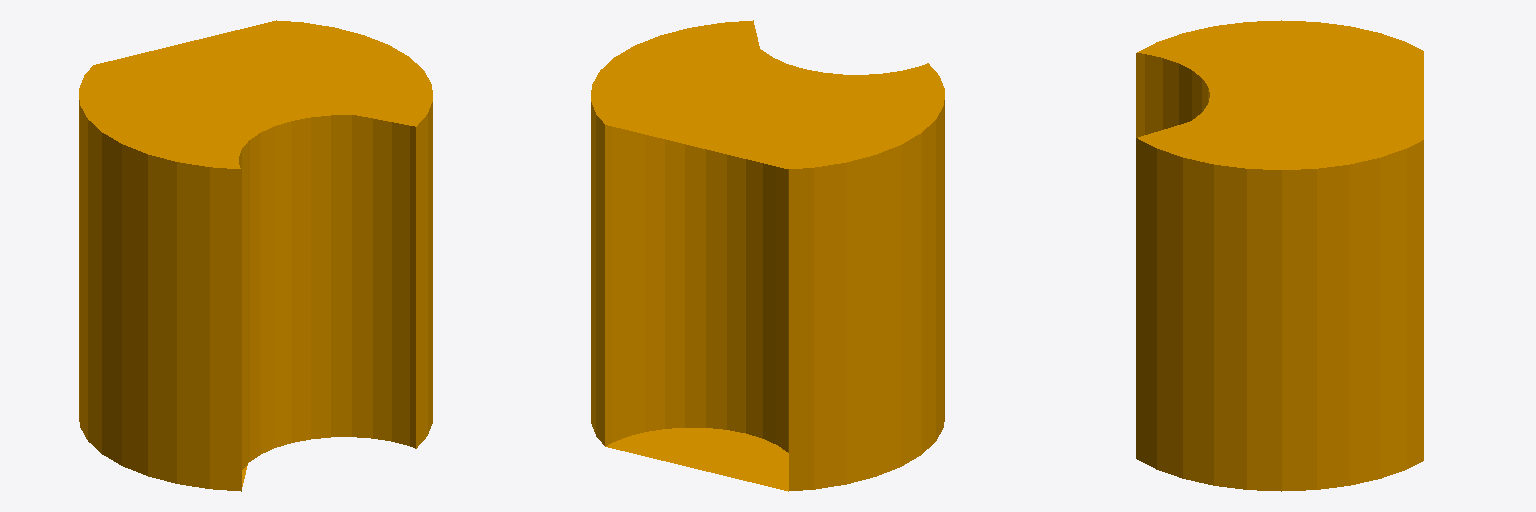
URDF robot description (object):
<?xml version="1.0"?>
<robot name="object">
  <link name="object">
    <visual>
      <origin xyz="0 0 0"/>
      <geometry>
        <mesh filename="meshes/set2/set_obj16_cylinder_axis.obj" scale=".03 .03 .03"/>
      </geometry>
    </visual>
    <collision>
  <origin xyz="0 0 0"/>
  <geometry>
    <mesh filename="meshes/set2/set_obj16_cylinder_axis_0decompose.obj" scale=".03 .03 .03"/>
<!--          <mesh filename="meshes/custom/obj0_ball.obj" scale=".05 .05 .05"/>-->
  </geometry>
</collision><collision>
  <origin xyz="0 0 0"/>
  <geometry>
    <mesh filename="meshes/set2/set_obj16_cylinder_axis_1decompose.obj" scale=".03 .03 .03"/>
<!--          <mesh filename="meshes/custom/obj0_ball.obj" scale=".05 .05 .05"/>-->
  </geometry>
</collision><collision>
  <origin xyz="0 0 0"/>
  <geometry>
    <mesh filename="meshes/set2/set_obj16_cylinder_axis_2decompose.obj" scale=".03 .03 .03"/>
<!--          <mesh filename="meshes/custom/obj0_ball.obj" scale=".05 .05 .05"/>-->
  </geometry>
</collision><collision>
  <origin xyz="0 0 0"/>
  <geometry>
    <mesh filename="meshes/set2/set_obj16_cylinder_axis_3decompose.obj" scale=".03 .03 .03"/>
<!--          <mesh filename="meshes/custom/obj0_ball.obj" scale=".05 .05 .05"/>-->
  </geometry>
</collision><collision>
  <origin xyz="0 0 0"/>
  <geometry>
    <mesh filename="meshes/set2/set_obj16_cylinder_axis_4decompose.obj" scale=".03 .03 .03"/>
<!--          <mesh filename="meshes/custom/obj0_ball.obj" scale=".05 .05 .05"/>-->
  </geometry>
</collision><collision>
  <origin xyz="0 0 0"/>
  <geometry>
    <mesh filename="meshes/set2/set_obj16_cylinder_axis_5decompose.obj" scale=".03 .03 .03"/>
<!--          <mesh filename="meshes/custom/obj0_ball.obj" scale=".05 .05 .05"/>-->
  </geometry>
</collision><collision>
  <origin xyz="0 0 0"/>
  <geometry>
    <mesh filename="meshes/set2/set_obj16_cylinder_axis_6decompose.obj" scale=".03 .03 .03"/>
<!--          <mesh filename="meshes/custom/obj0_ball.obj" scale=".05 .05 .05"/>-->
  </geometry>
</collision><collision>
  <origin xyz="0 0 0"/>
  <geometry>
    <mesh filename="meshes/set2/set_obj16_cylinder_axis_7decompose.obj" scale=".03 .03 .03"/>
<!--          <mesh filename="meshes/custom/obj0_ball.obj" scale=".05 .05 .05"/>-->
  </geometry>
</collision>

<!--    <collision>-->
<!--      <origin xyz="0 0 0"/>-->
<!--      <geometry>-->
<!--        <mesh filename="meshes/set2/set_obj16_cylinder_axis.obj" scale=".03 .03 .03"/>-->
<!--&lt;!&ndash;          <mesh filename="meshes/custom/obj0_ball.obj" scale=".05 .05 .05"/>&ndash;&gt;-->
<!--      </geometry>-->
<!--    </collision>-->
    <inertial>
      <density value="1000.0"/>
    </inertial>
  </link>
</robot>

--- Facts derived from the render (not from the file) ---
The picture shows the robot from 3 angles, left to right: view 1: azimuth 30°, elevation 25°; view 2: azimuth 150°, elevation 25°; view 3: azimuth 270°, elevation 25°; orthographic projection.
Model object with 1 links and 0 joints (none), rooted at object, posed every joint at zero.
Links seen in each view (by area): view 1: object; view 2: object; view 3: object.
Link boxes in pixels (bbox=[...]): object: bbox=[79, 20, 432, 491]; object: bbox=[591, 20, 944, 491]; object: bbox=[1136, 20, 1423, 491].
Size in the robot's own frame: 0.06 by 0.0486 by 0.06 metres.
Meshes: 1 distinct files referenced, 1 mesh visuals loaded (1 OBJ).